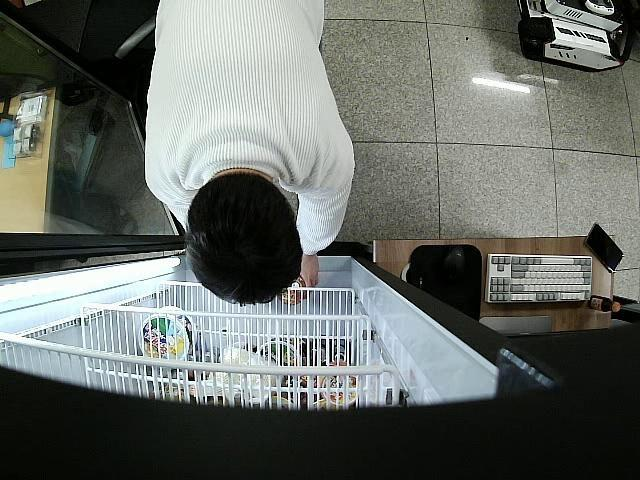06_nuguri_S: (282, 281, 306, 307)
